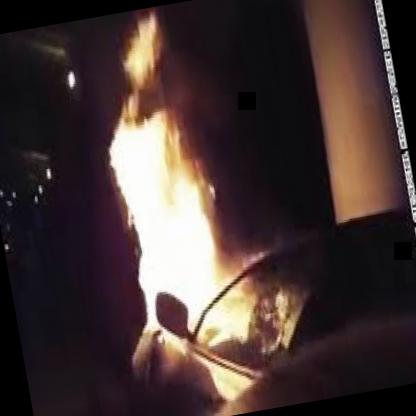fire: (94, 34, 269, 416)
